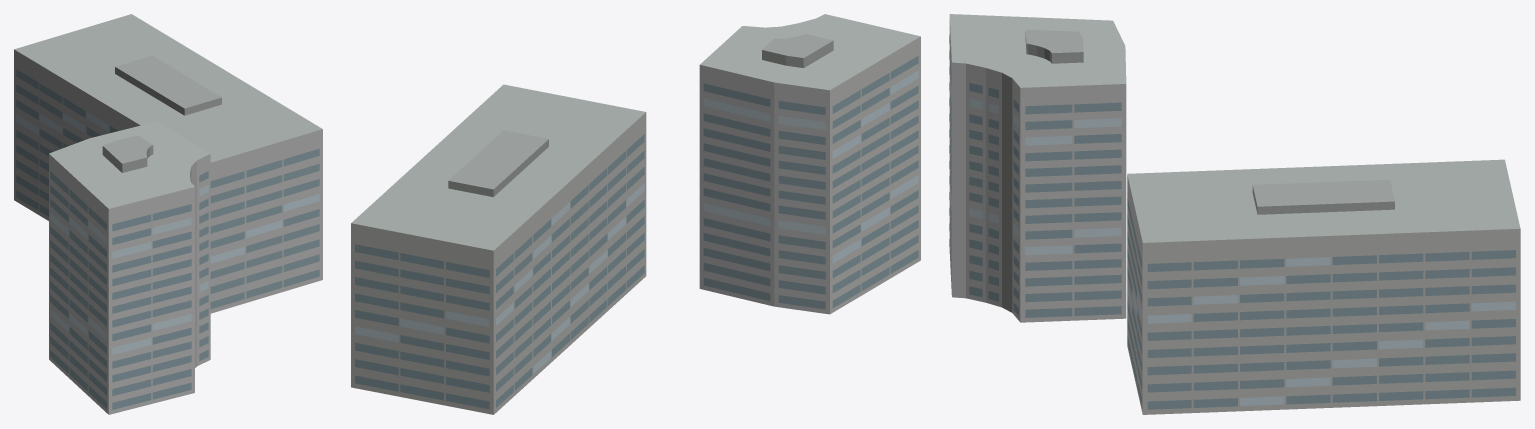
Rendered from apt-a10028201.glb.
3 renders of one model, left to right at view 1: azimuth 30°, elevation 25°; view 2: azimuth 150°, elevation 25°; view 3: azimuth 270°, elevation 25°, orthographic. The views are drawn at different scales.
Parts seen in each view (by area): view 1: apt-a10028201; view 2: apt-a10028201; view 3: apt-a10028201.
Boxes of the visible parts, left/top/right/bottom form: apt-a10028201: left=14, top=14, right=322, bottom=414; apt-a10028201: left=351, top=14, right=920, bottom=414; apt-a10028201: left=949, top=14, right=1520, bottom=414.
Size of the model in its own units: 69.45 by 47.81 by 101.
